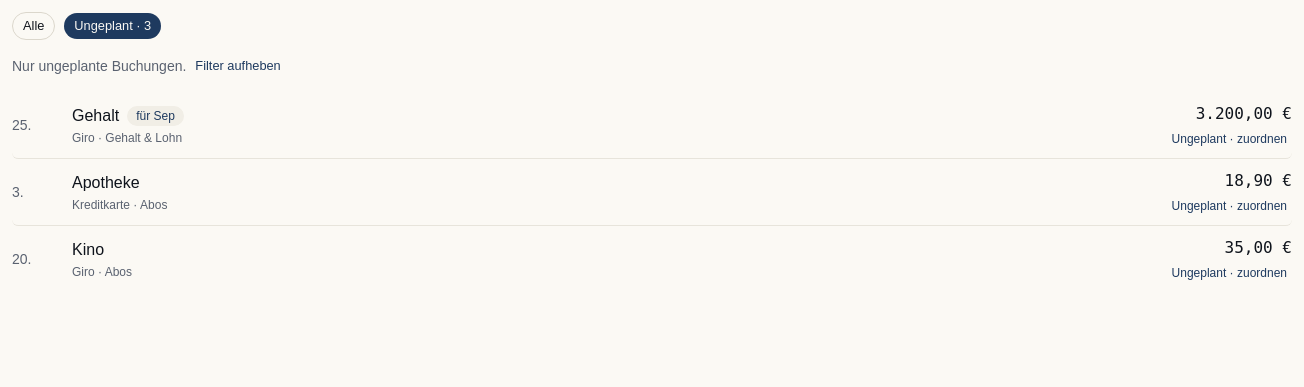
Test: MonthBook list and filter (#241) › the unplanned filter says so in words and offers to lift it
Check: the button "20. Kino Giro · Abos" is shown, box top-left (12, 238), bottom-right (1155, 280)
Check: the message shows "Nur ungeplante Buchungen.", box top-left (12, 58), bottom-right (186, 74)
Click the button "Filter aufheben" at (238, 66), box top-left (194, 56), bottom-right (282, 76)
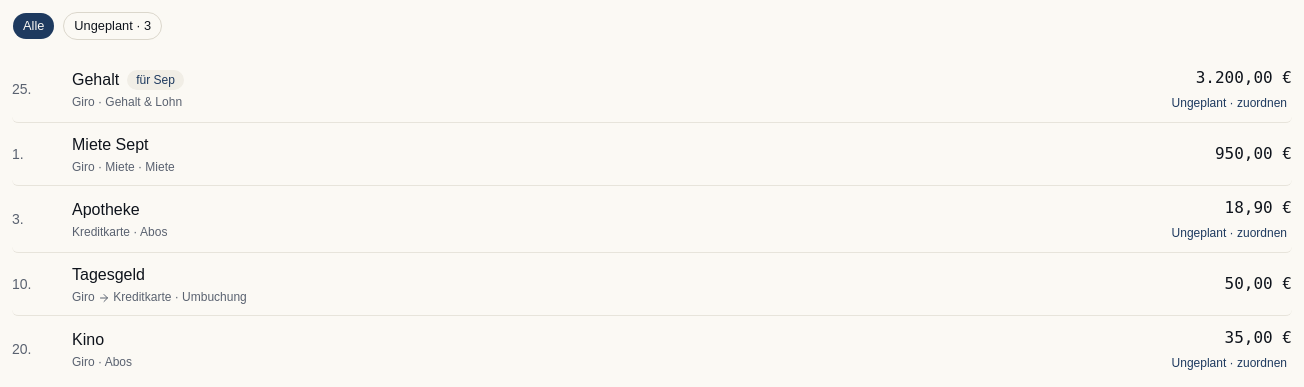
Check: the message "Nur ungeplante Buchungen. Filter aufheben" is gone
